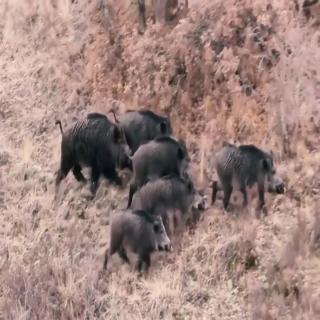Pig: (46, 102, 130, 205), (211, 134, 301, 220), (111, 194, 176, 297), (141, 159, 213, 249), (124, 136, 193, 190)
